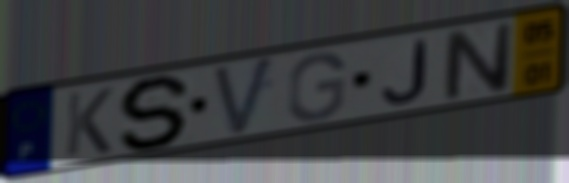G: (285, 50, 349, 124)
J: (379, 36, 431, 106)
K: (62, 85, 116, 160)
N: (441, 19, 514, 104)
S: (115, 73, 197, 152)
V: (210, 52, 279, 140)
